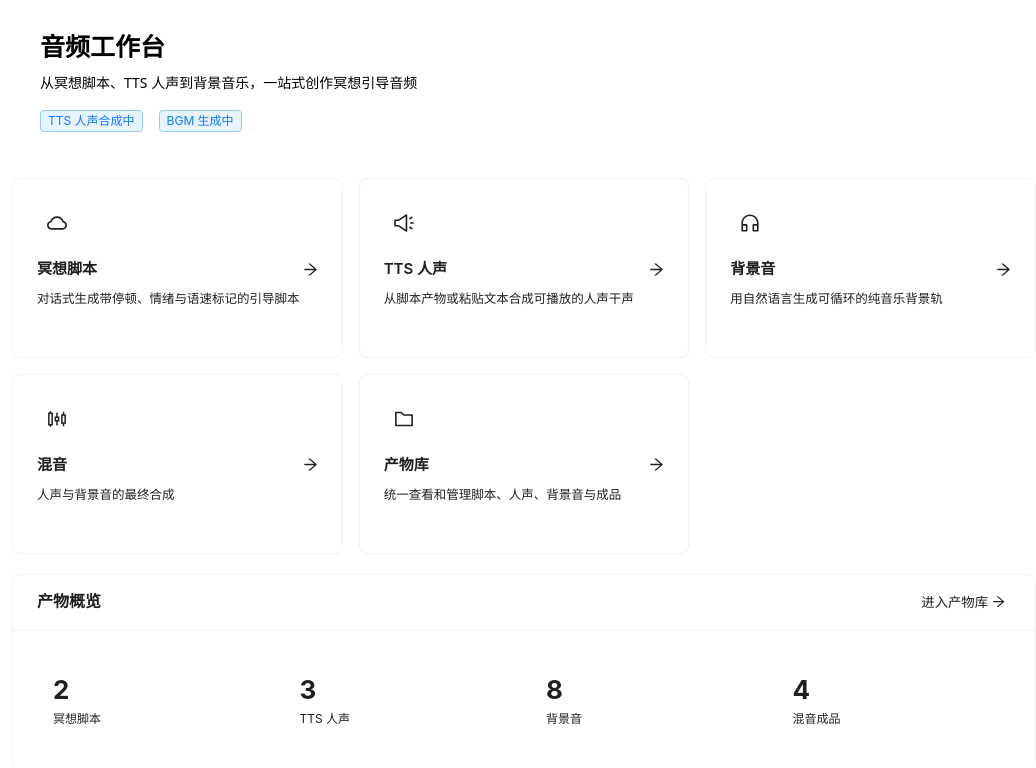
Test: DashboardPage › opens the available mixdown module
The width and height of the screenshot is (1036, 768).
What coordinates should you click on to do the following:
click the text "混音"
I would click on:
 (177, 464)
Its box is [12,374,343,554].
(page scrolled)
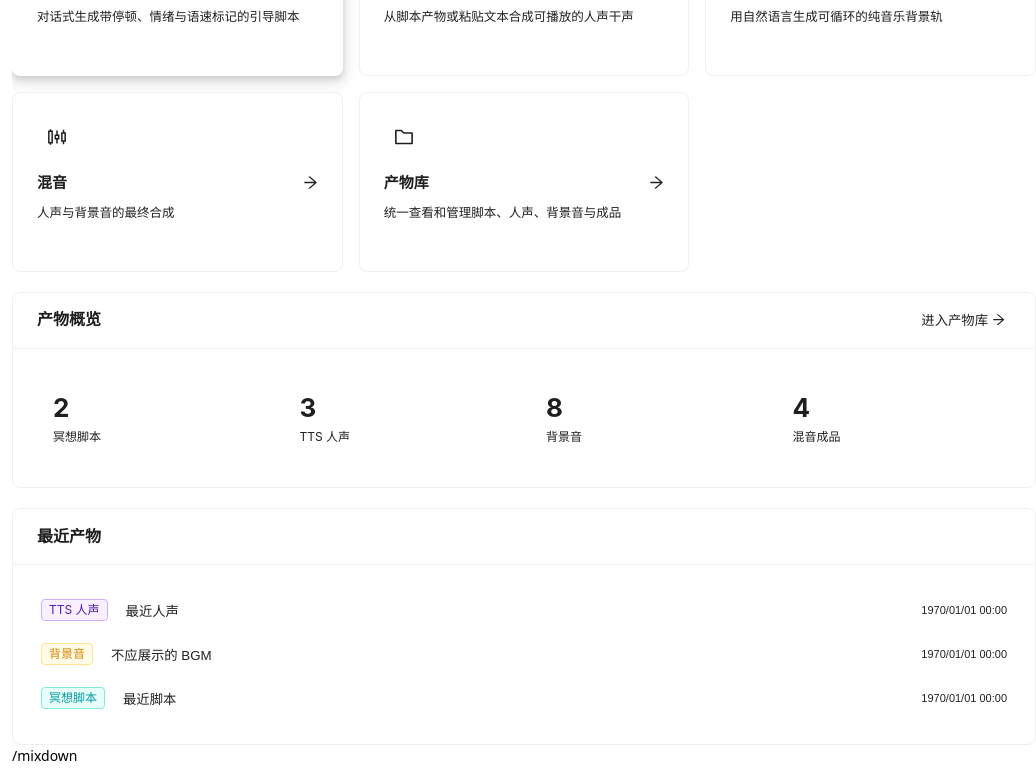
Expected: the text with test id "location" reads "/mixdown", [12,746,78,765]
